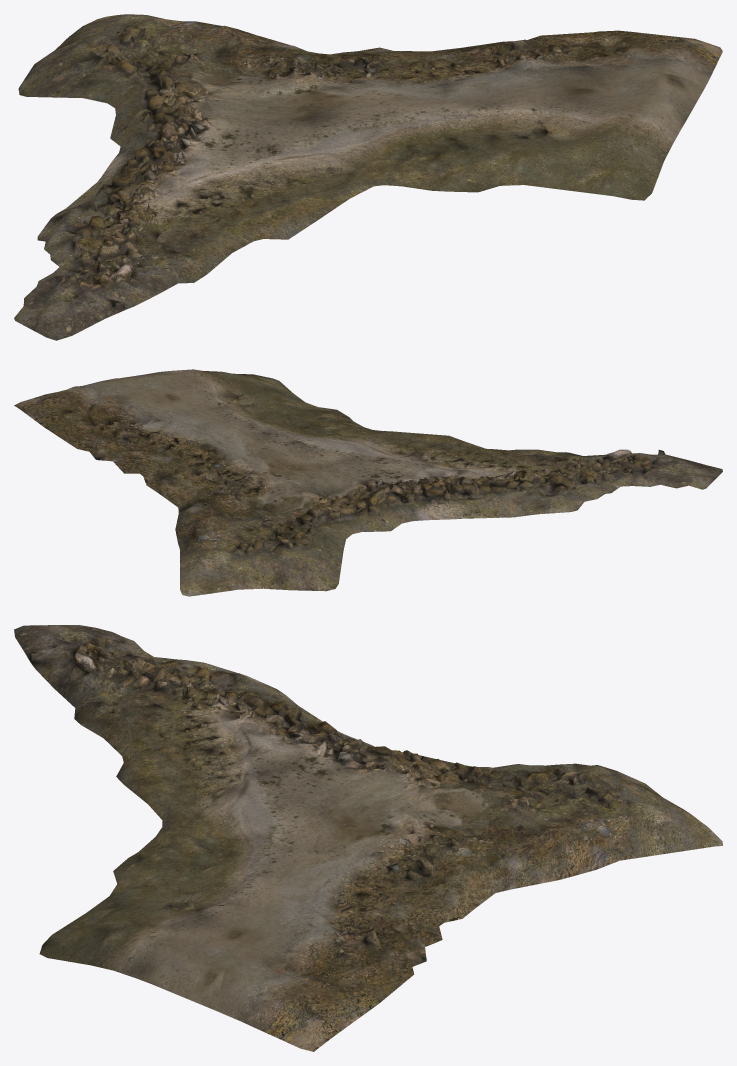
File: coast_rocks_01.glb
The picture shows the model from 3 angles, top to bottom: view 1: azimuth 30°, elevation 25°; view 2: azimuth 150°, elevation 25°; view 3: azimuth 270°, elevation 25°; orthographic projection. The views are drawn at different scales.
Size of the model in its own units: 59.49 by 3.28 by 42.49.
Materials: 1 (1 with a texture image).
